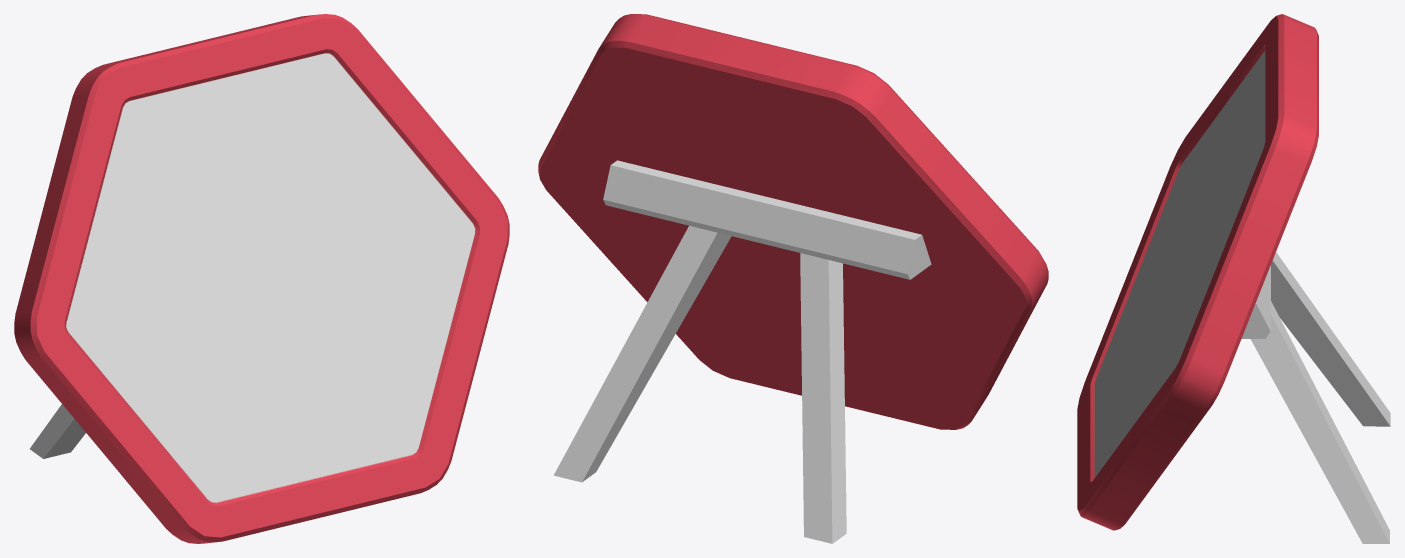
Rendered from 04 Sign Blank.fbx.
3 views of the same model, side by side, from view 1: azimuth 30°, elevation 25°; view 2: azimuth 150°, elevation 25°; view 3: azimuth 270°, elevation 25° (orthographic). The views are drawn at different scales.
Parts seen in each view (by area): view 1: 04 Sign Blank; view 2: 04 Sign Blank; view 3: 04 Sign Blank.
Part boxes in pixels (x1,y1,x2,y2): 04 Sign Blank: [14, 14, 509, 543]; 04 Sign Blank: [538, 14, 1048, 543]; 04 Sign Blank: [1077, 14, 1390, 543].
Size of the model in its own units: 65.97 by 55.05 by 37.96.
Materials: 1 (1 with a texture image).
